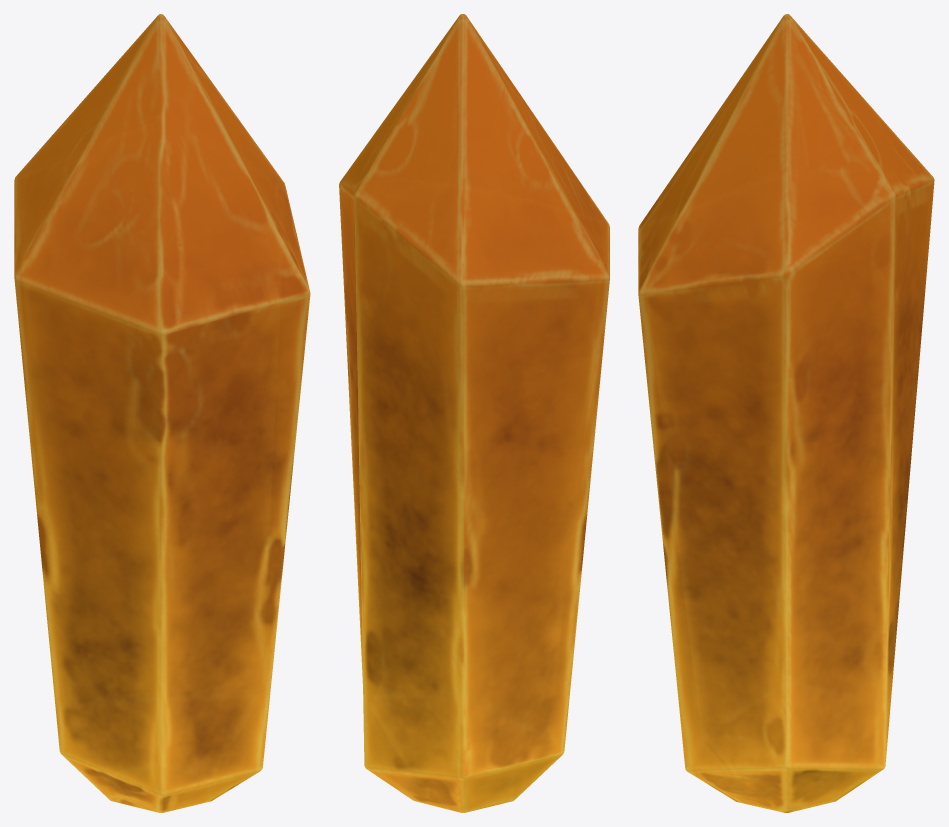
File: lilorange.gltf
3 renders of one model, left to right at view 1: azimuth 30°, elevation 25°; view 2: azimuth 150°, elevation 25°; view 3: azimuth 270°, elevation 25°, orthographic.
Visible parts, largest first — view 1: CrystalShard_low2_lambert3_0; view 2: CrystalShard_low2_lambert3_0; view 3: CrystalShard_low2_lambert3_0.
Boxes of the visible parts, x1,y1,x2,y2 form: CrystalShard_low2_lambert3_0: [14, 14, 310, 812]; CrystalShard_low2_lambert3_0: [339, 14, 609, 812]; CrystalShard_low2_lambert3_0: [638, 14, 934, 812].
Bounding box in the file's own units: 0.2452 × 0.6727 × 0.233.
1 material, 1 textured.
